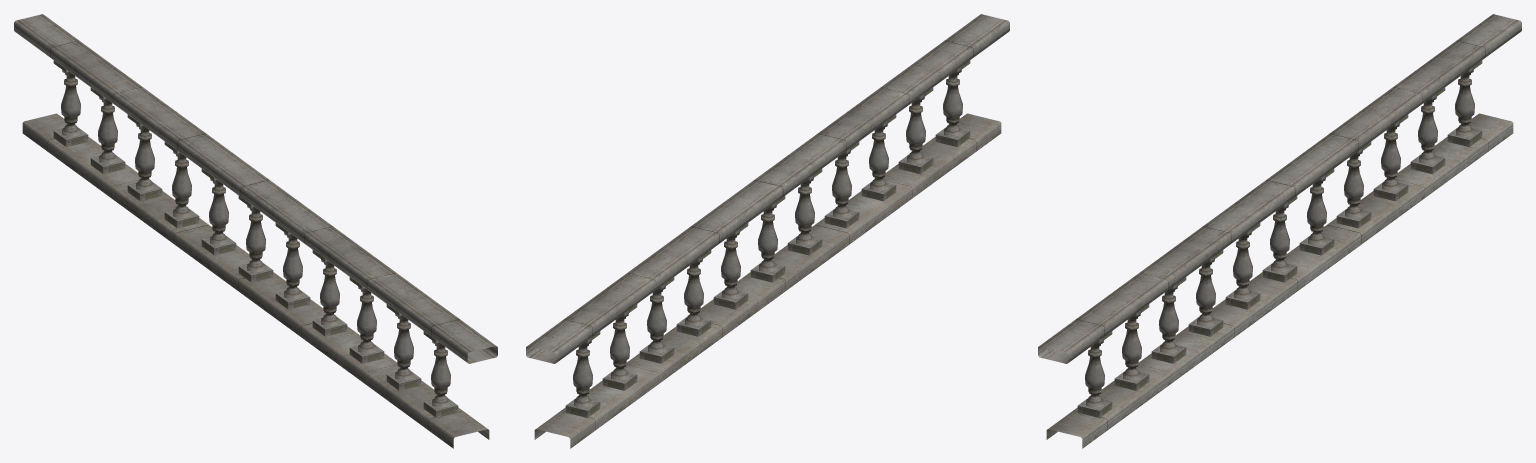
Rendered from Wall3.fbx.
3 renders of one model, left to right at view 1: azimuth 30°, elevation 25°; view 2: azimuth 150°, elevation 25°; view 3: azimuth 330°, elevation 25°, orthographic.
Visible parts, largest first — view 1: LV_Campagna_Uni_InRail04_SM_CJH; view 2: LV_Campagna_Uni_InRail04_SM_CJH; view 3: LV_Campagna_Uni_InRail04_SM_CJH.
Part boxes in pixels (x1,y1,x2,y2): LV_Campagna_Uni_InRail04_SM_CJH: [14, 14, 497, 448]; LV_Campagna_Uni_InRail04_SM_CJH: [526, 14, 1009, 448]; LV_Campagna_Uni_InRail04_SM_CJH: [1038, 14, 1521, 448].
Bounding box in the file's own units: 0.13 × 0.36 × 2.86.
